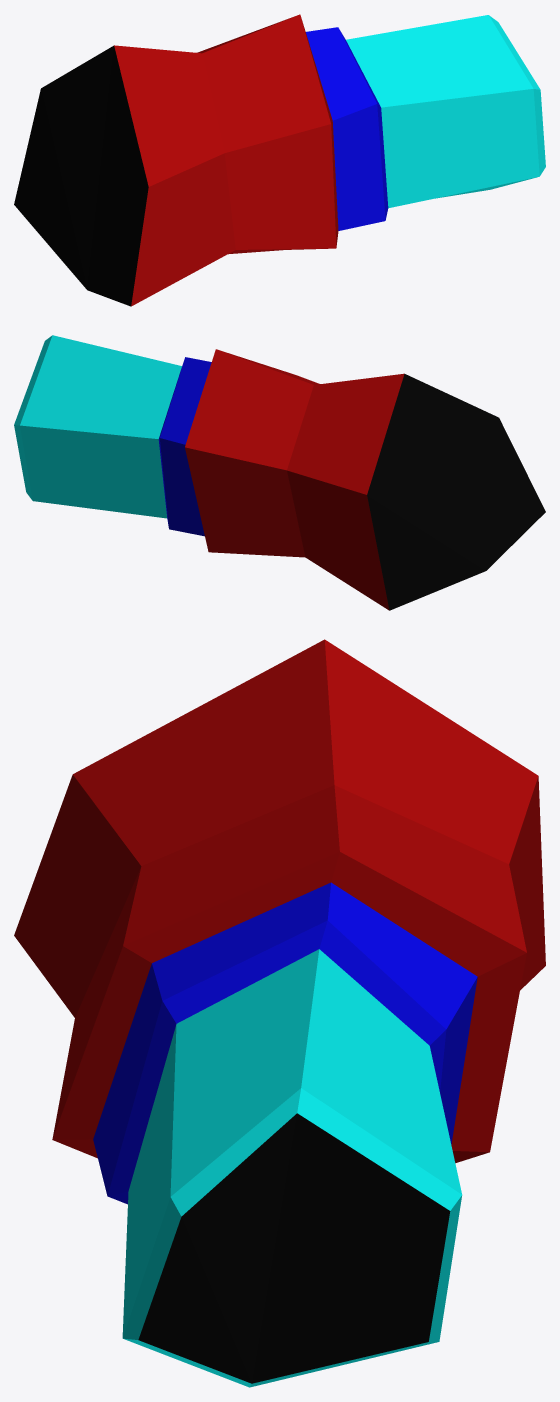
File: Chr_ArmUpperLeft_Male_Static_05.fbx
3 views of the same model, one above another, from view 1: azimuth 30°, elevation 25°; view 2: azimuth 150°, elevation 25°; view 3: azimuth 270°, elevation 25° (orthographic). The views are drawn at different scales.
Visible parts, largest first — view 1: Chr_ArmUpperLeft_Male_05; view 2: Chr_ArmUpperLeft_Male_05; view 3: Chr_ArmUpperLeft_Male_05.
Boxes of the visible parts, left/top/right/bottom form: Chr_ArmUpperLeft_Male_05: left=14, top=14, right=545, bottom=306; Chr_ArmUpperLeft_Male_05: left=14, top=335, right=545, bottom=610; Chr_ArmUpperLeft_Male_05: left=14, top=639, right=545, bottom=1387.
Size of the model in its own units: 32.67 by 15.86 by 17.36.
